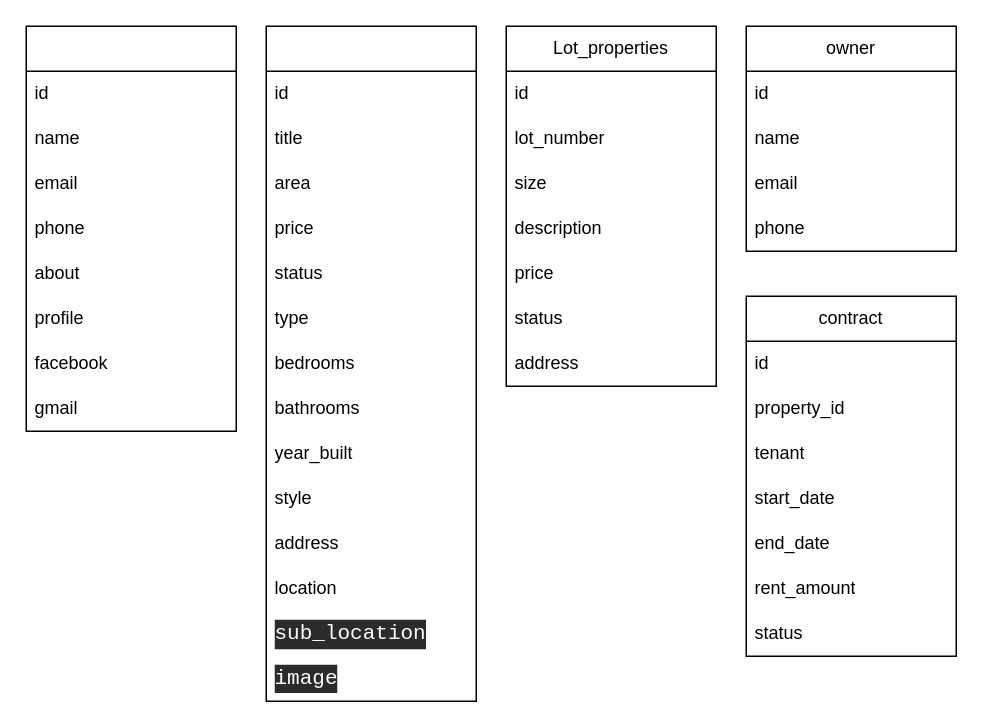
Image size: 983x728. Some labels were removed from this diagram. Each missing label, with the box of its shape:
house_properties: (265, 25, 476, 701)
User: (25, 25, 236, 431)
